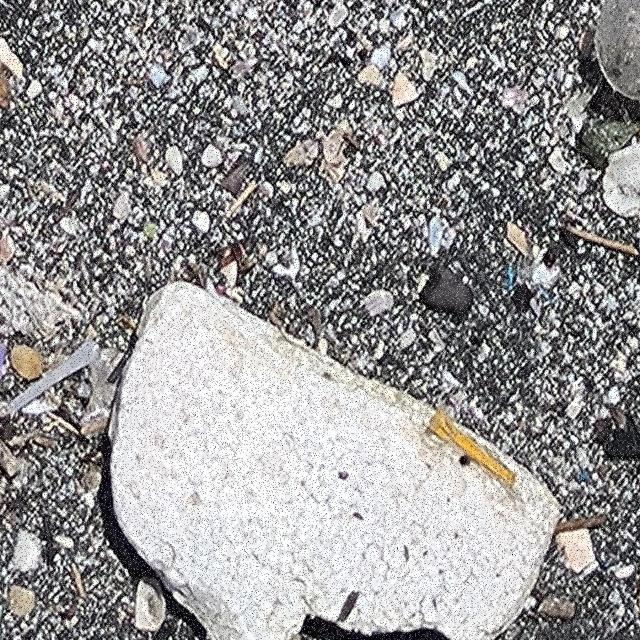styrofoam_waste: (111, 282, 561, 640)
